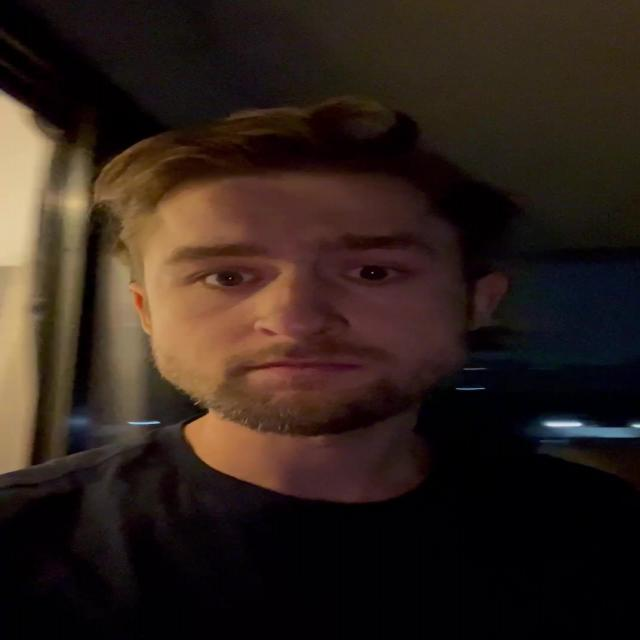earlobe: (466, 312, 490, 332), (138, 313, 155, 335)
eye: (343, 264, 407, 283), (193, 270, 260, 288)
nose: (258, 331, 339, 359)
wholeear: (466, 272, 509, 332), (126, 281, 155, 335)
